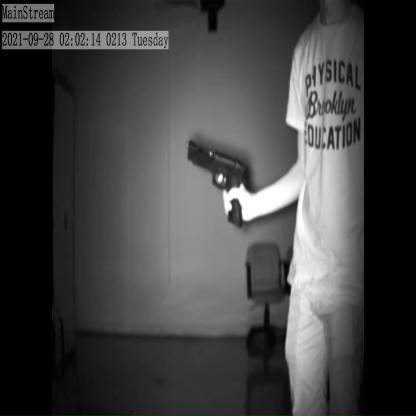weapon: (186, 133, 250, 231)
